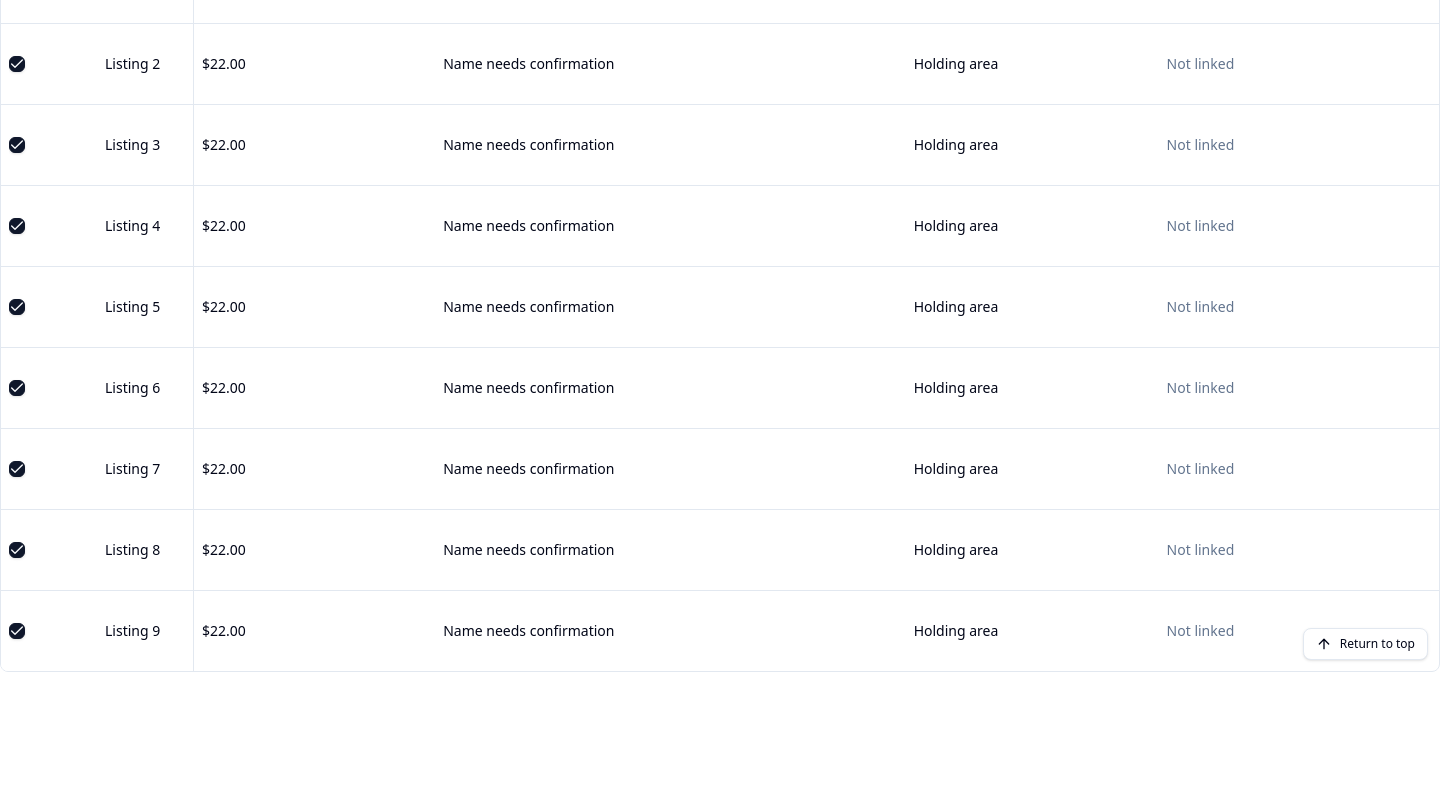
it: DashboardImportTable › returns the bounded listing area to the top
(page scrolled)
Click the button "Return to top" at (1365, 644), box 1303,628 -> 1428,660
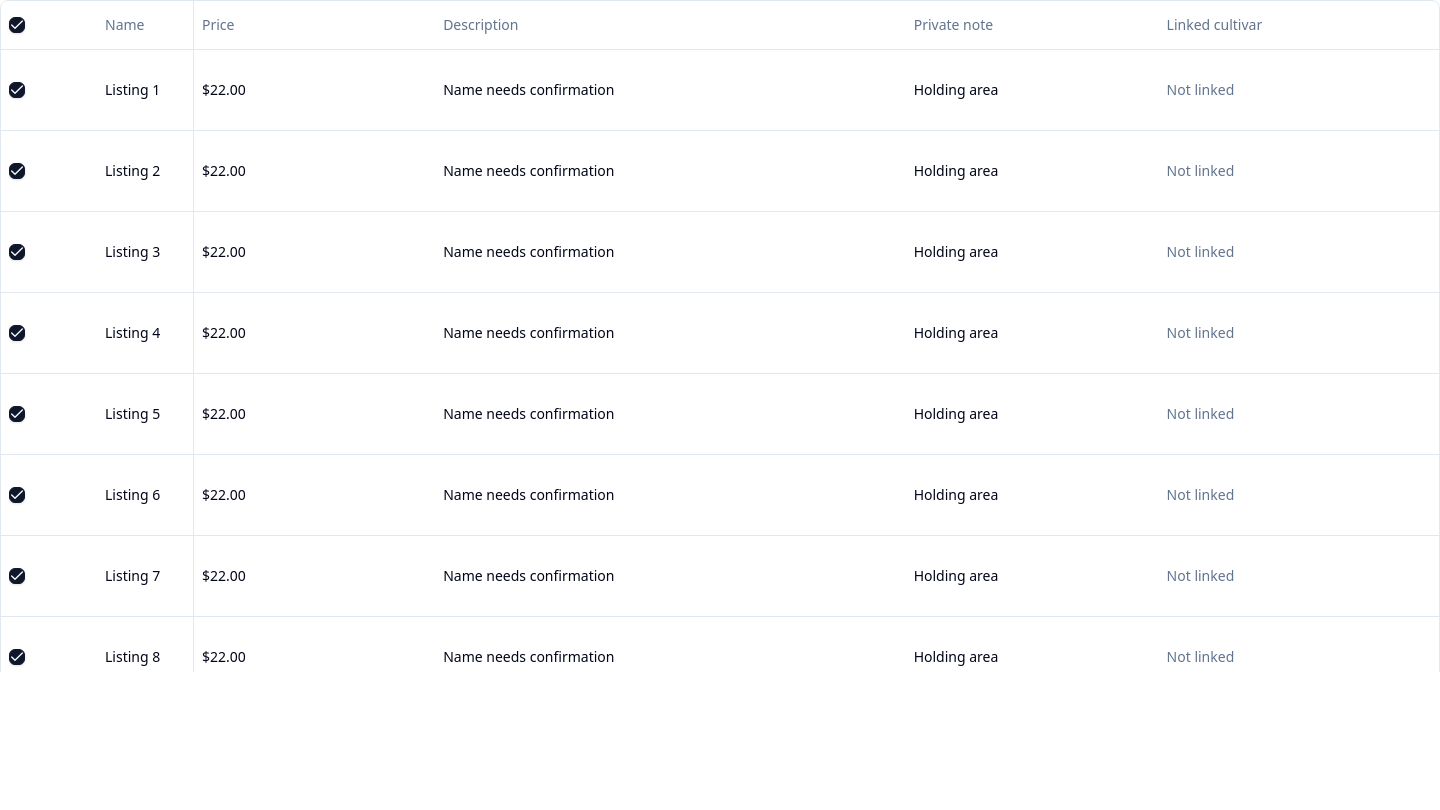
Expected: the button "Return to top" is gone
